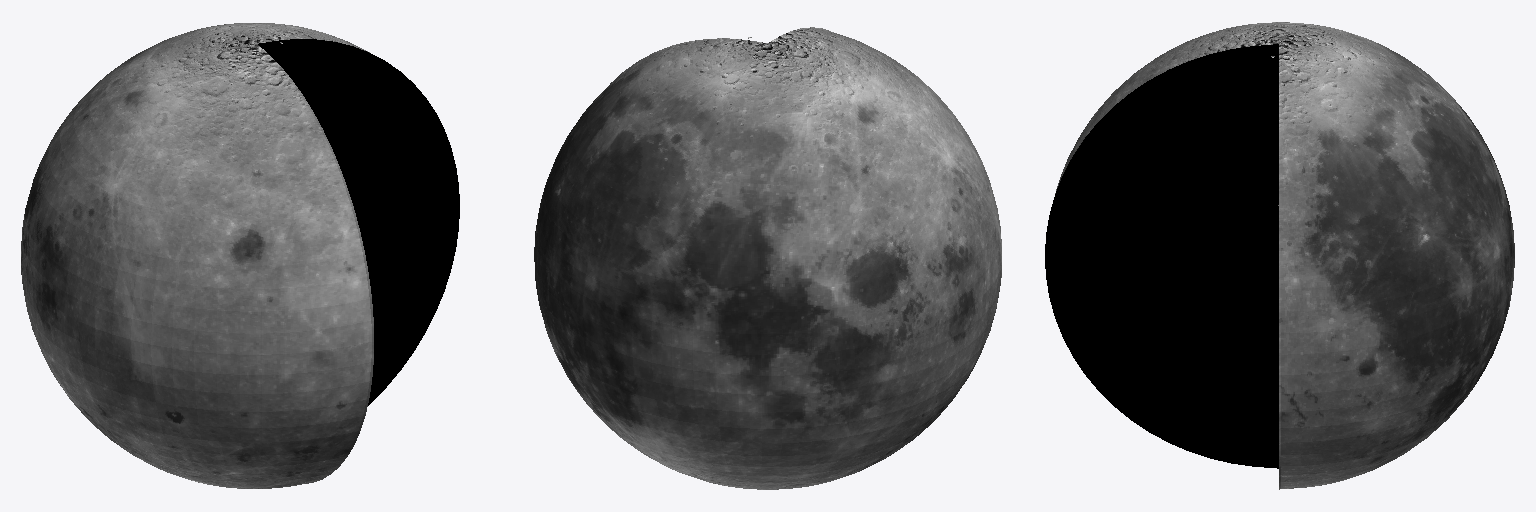
3 renders of one model, left to right at view 1: azimuth 30°, elevation 25°; view 2: azimuth 150°, elevation 25°; view 3: azimuth 270°, elevation 25°, orthographic.
Parts seen in each view (by area): view 1: Sphere; view 2: Sphere; view 3: Sphere.
Boxes of the visible parts, x1=… form: Sphere: x1=21, y1=23, x2=459, y2=488; Sphere: x1=534, y1=27, x2=1001, y2=489; Sphere: x1=1045, y1=22, x2=1514, y2=489.
Size of the model in its own units: 3.49 by 3.48 by 3.49.
Materials: 4 (1 with a texture image).